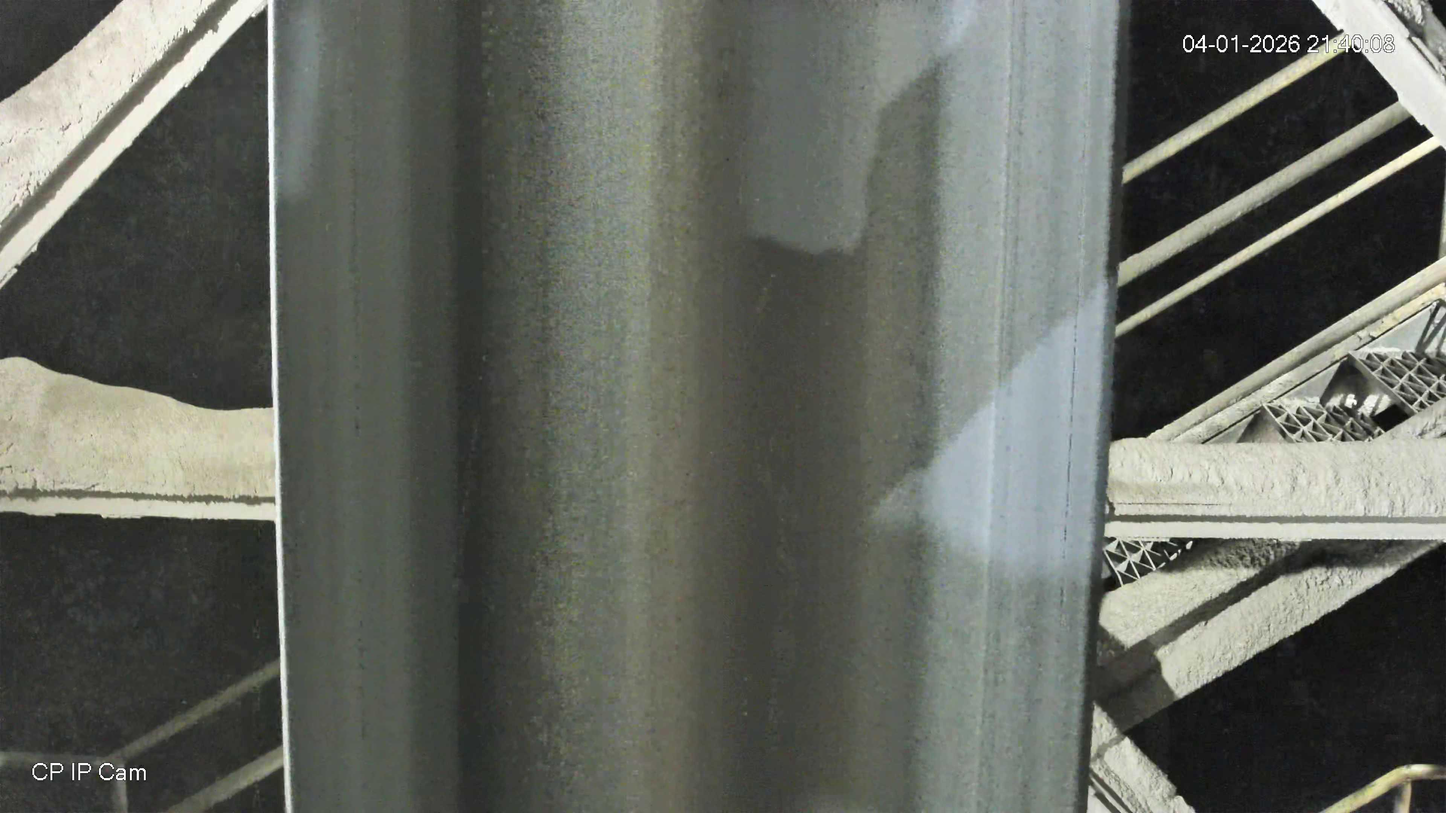belt_roi: (275, 0, 1124, 813)
